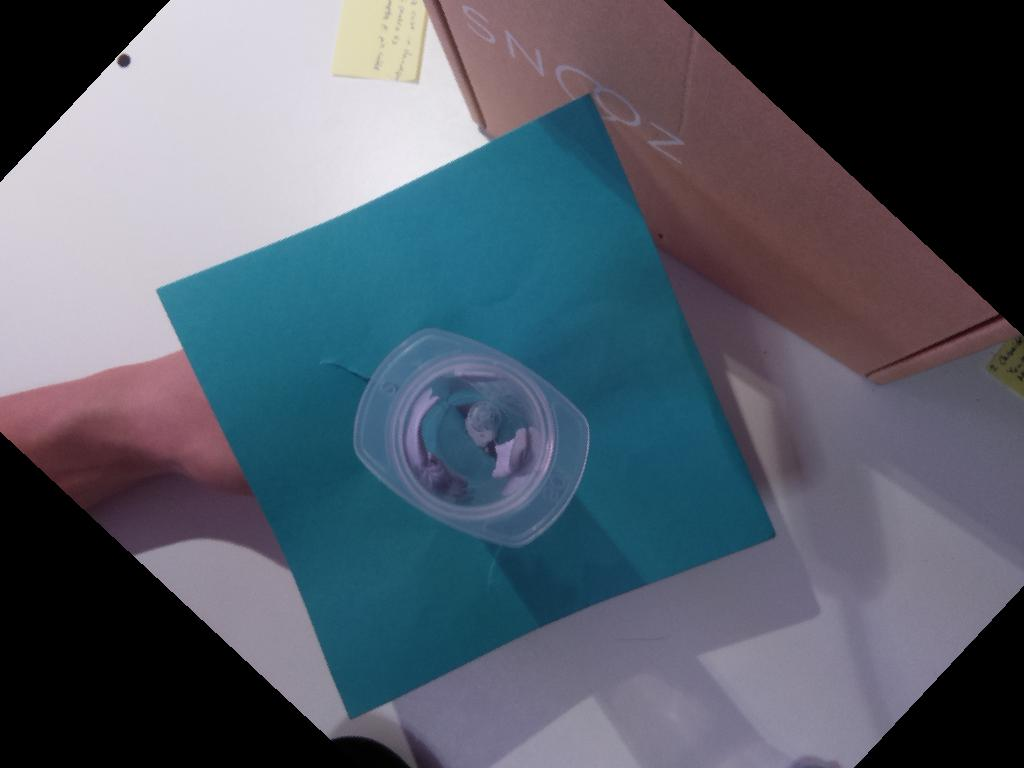dirty: (350, 327, 591, 547)
